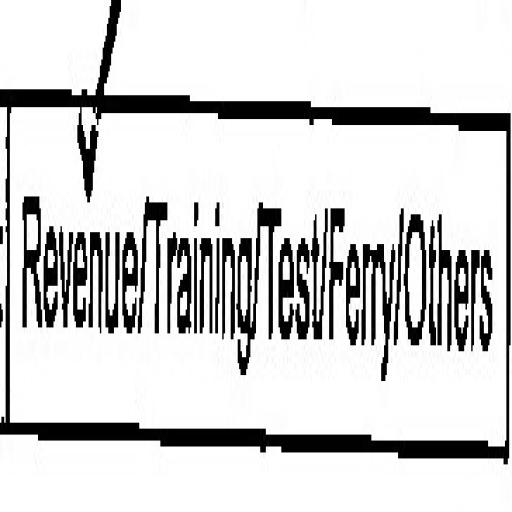check: (0, 0, 143, 470)
